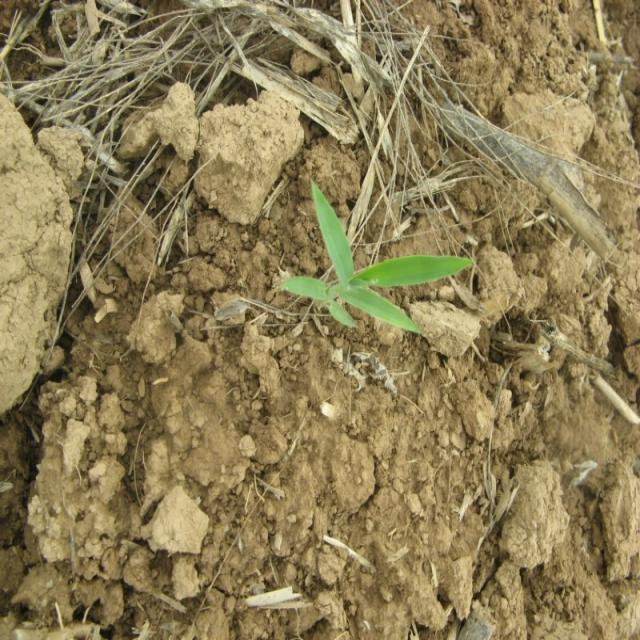bg: (279, 182, 476, 335)
